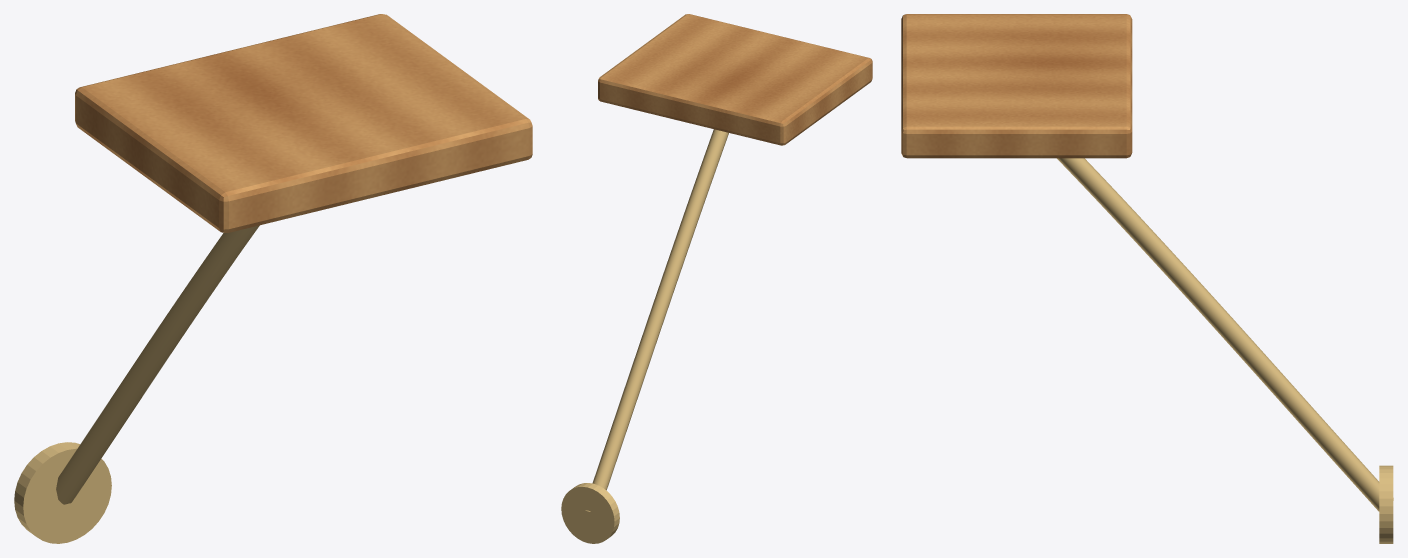
Rendered from music_machine.glb.
3 renders of one model, left to right at view 1: azimuth 30°, elevation 25°; view 2: azimuth 150°, elevation 25°; view 3: azimuth 270°, elevation 25°, orthographic. The views are drawn at different scales.
Parts seen in each view (by area): view 1: Board, Arm, Foot; view 2: Board, Arm, Foot; view 3: Board, Arm, Foot.
Boxes of the visible parts, x1=… form: Board: x1=75, y1=14, x2=532, y2=232; Arm: x1=56, y1=225, x2=259, y2=504; Foot: x1=14, y1=442, x2=111, y2=543; Board: x1=598, y1=14, x2=872, y2=145; Arm: x1=585, y1=129, x2=728, y2=511; Foot: x1=561, y1=483, x2=619, y2=543; Board: x1=901, y1=14, x2=1132, y2=158; Arm: x1=1057, y1=158, x2=1393, y2=511; Foot: x1=1379, y1=465, x2=1393, y2=543.
Size of the model in its own units: 0.6 by 1.12 by 1.07.
2 materials, 1 textured.
